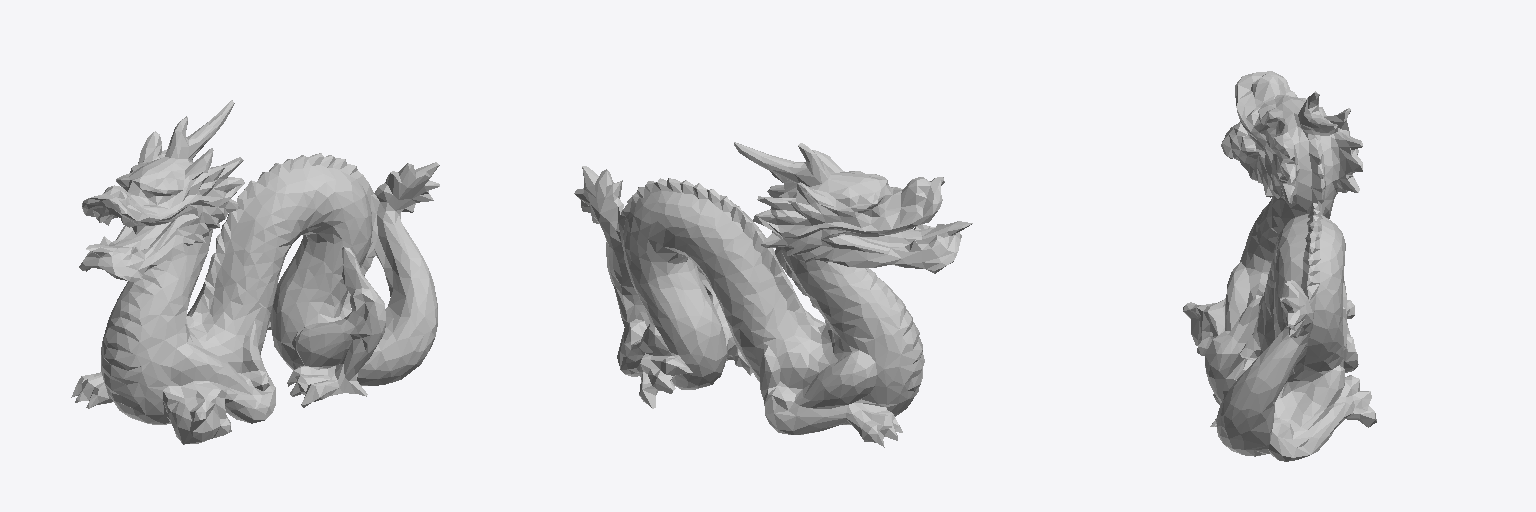
The model's file is dragon5K.obj.
3 views of the same model, side by side, from view 1: azimuth 30°, elevation 25°; view 2: azimuth 150°, elevation 25°; view 3: azimuth 270°, elevation 25° (orthographic).
Size of the model in its own units: 2 by 1.41 by 0.8962.